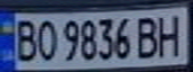3: (97, 16, 118, 61)
6: (112, 15, 136, 61)
8: (78, 16, 100, 62)
9: (60, 16, 81, 62)
B: (9, 16, 39, 63), (133, 13, 163, 60)
H: (154, 11, 187, 57)
O: (33, 17, 57, 62)
